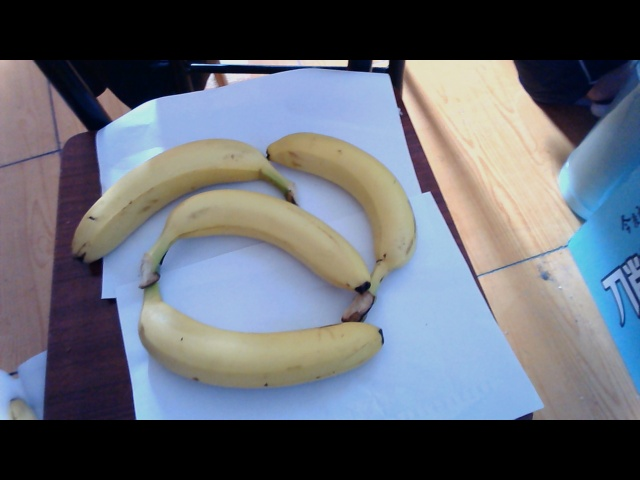banana: (72, 140, 418, 293), (131, 291, 392, 391)
